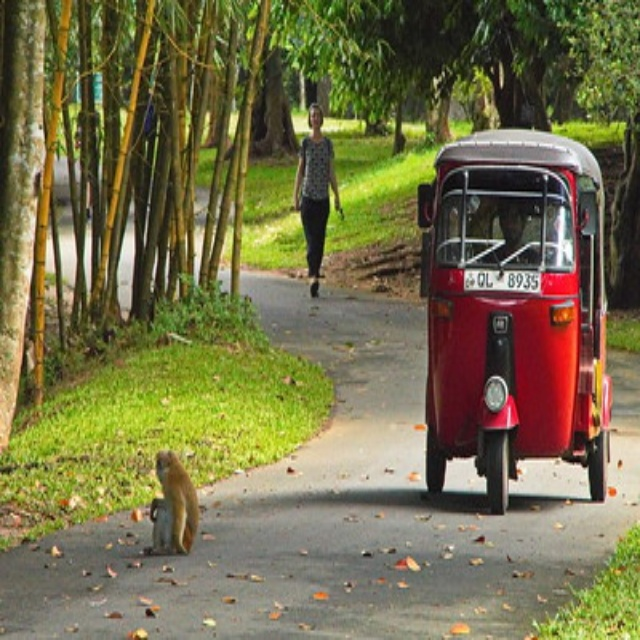Motorcycle: (418, 127, 613, 515)
